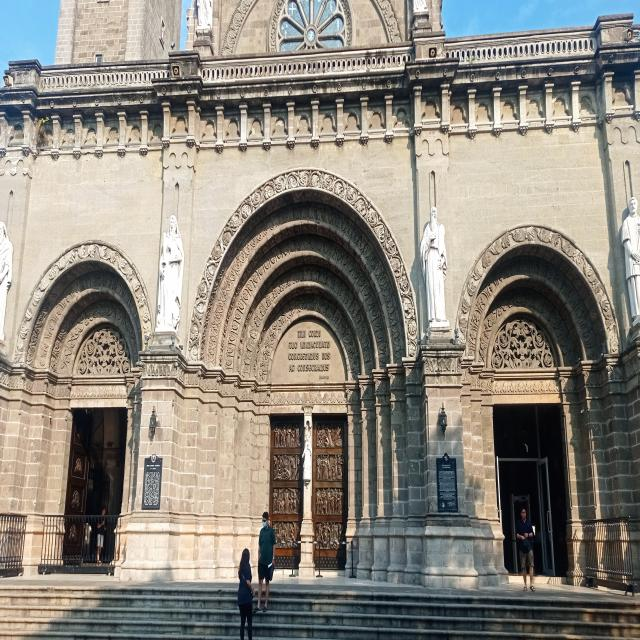Manila Cathedral: (0, 0, 640, 640)
